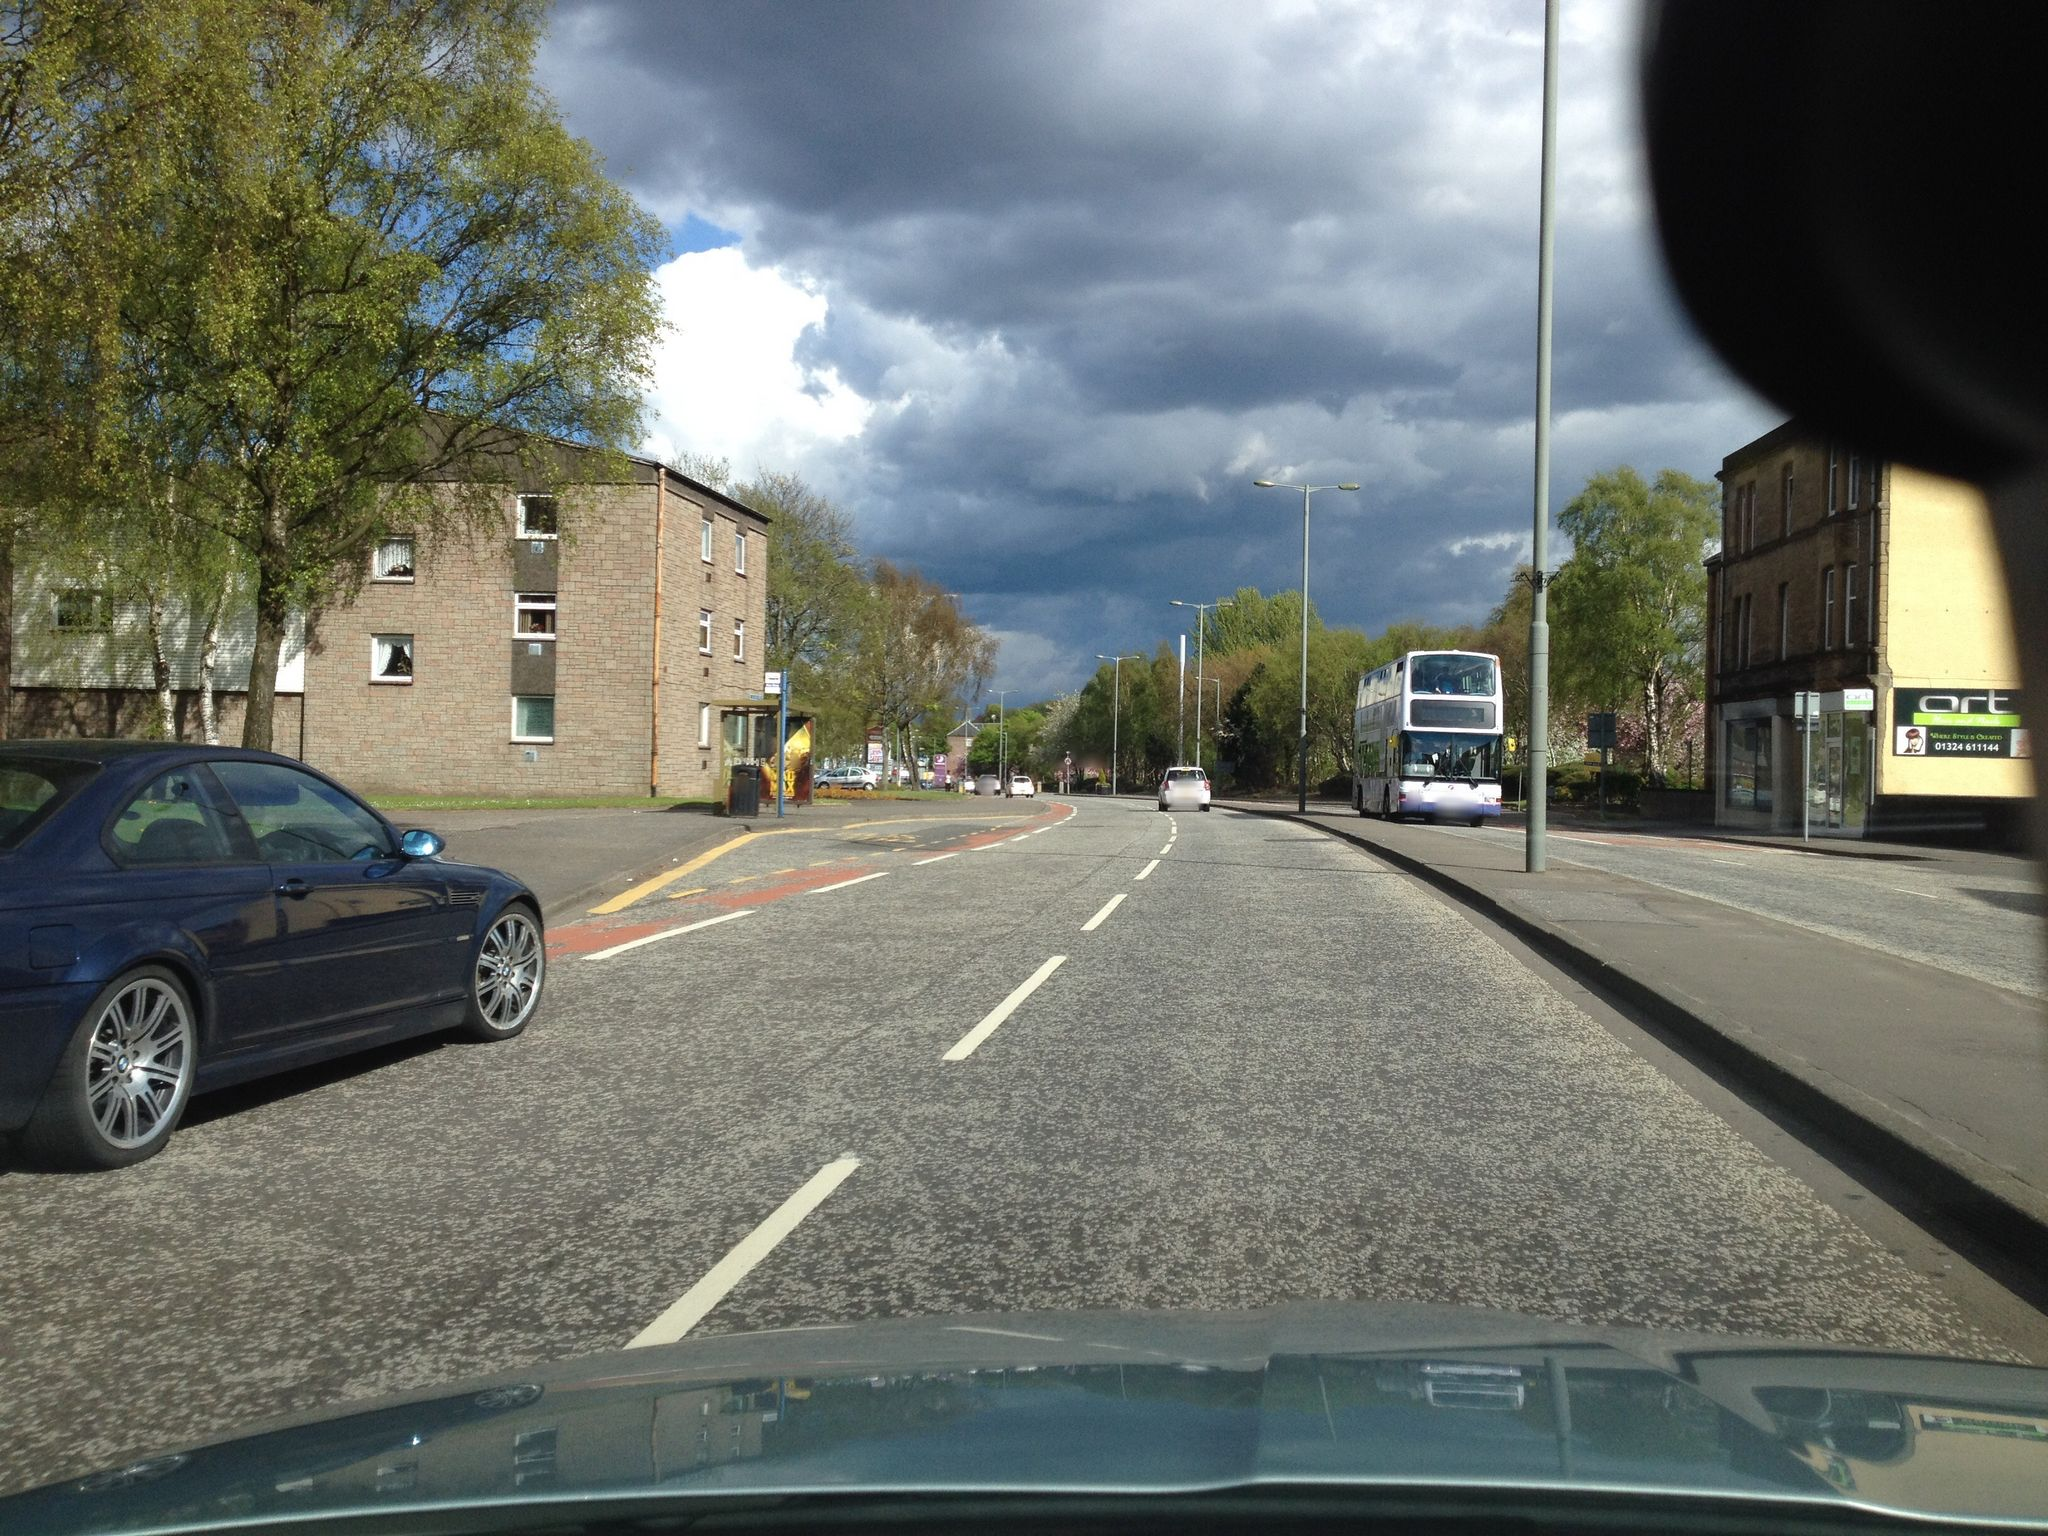bus: (1350, 649, 1505, 828)
car: (0, 733, 548, 1173), (1156, 766, 1211, 812), (813, 766, 877, 791), (1005, 774, 1034, 797)
